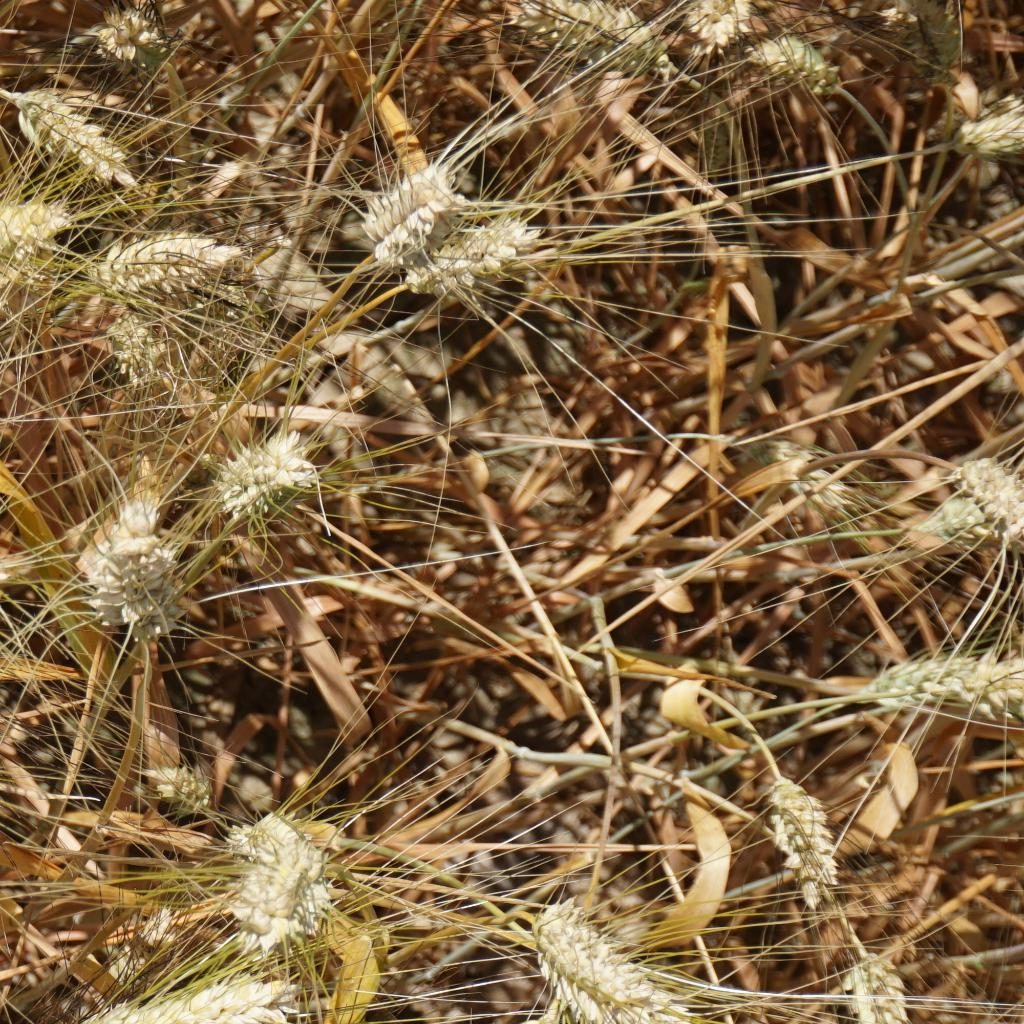0-0: (526, 902, 676, 1024), (855, 638, 1016, 730), (518, 0, 683, 86), (418, 207, 545, 302), (3, 84, 120, 183), (110, 219, 251, 299), (726, 415, 844, 508), (766, 771, 850, 896), (230, 814, 307, 947), (361, 144, 454, 252), (214, 433, 316, 529), (755, 20, 854, 102), (882, 0, 975, 82), (96, 1, 183, 81), (560, 974, 698, 1024), (94, 489, 145, 612), (930, 451, 1024, 517), (123, 539, 182, 633), (142, 747, 222, 814), (843, 950, 915, 1024), (915, 498, 1001, 558), (105, 307, 169, 384), (960, 82, 1024, 152), (0, 177, 51, 262), (683, 0, 745, 45), (495, 1003, 573, 1024)
